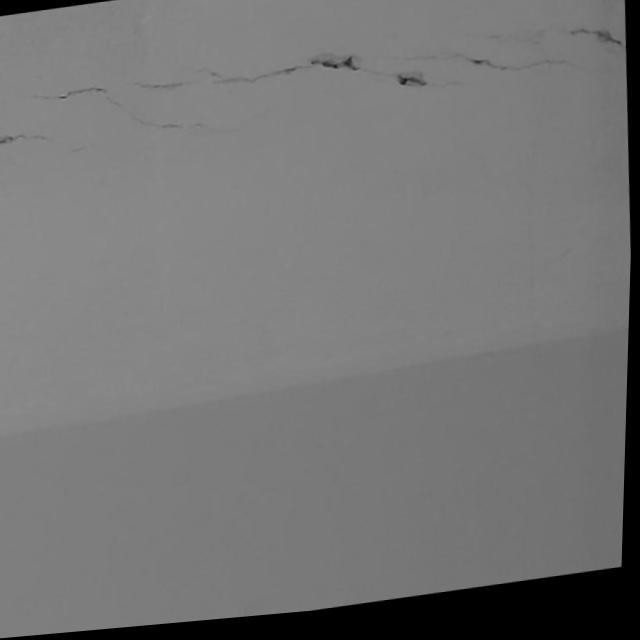Crack: (16, 47, 589, 145)
